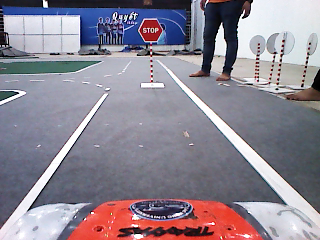stop: (138, 18, 164, 43)
